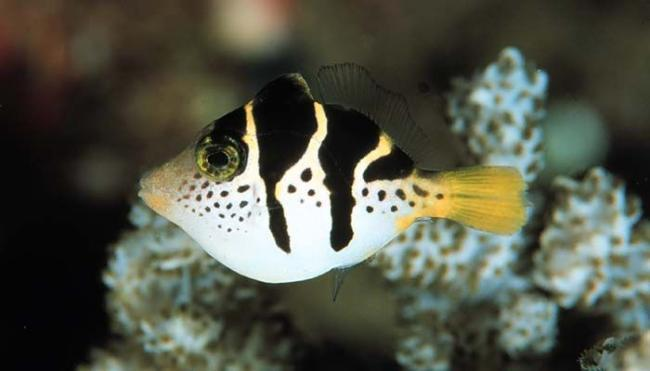fish: (137, 62, 531, 285)
